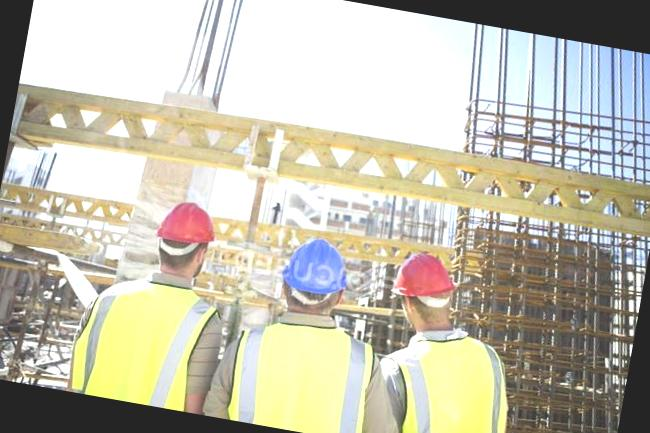helmet: (274, 235, 353, 302), (386, 241, 456, 306), (153, 192, 221, 248)
person: (208, 218, 402, 433), (65, 183, 243, 416), (364, 240, 531, 433)
